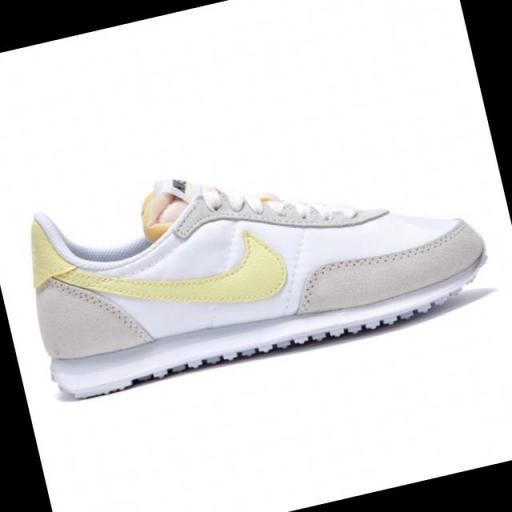Nike: (53, 214, 300, 343)
